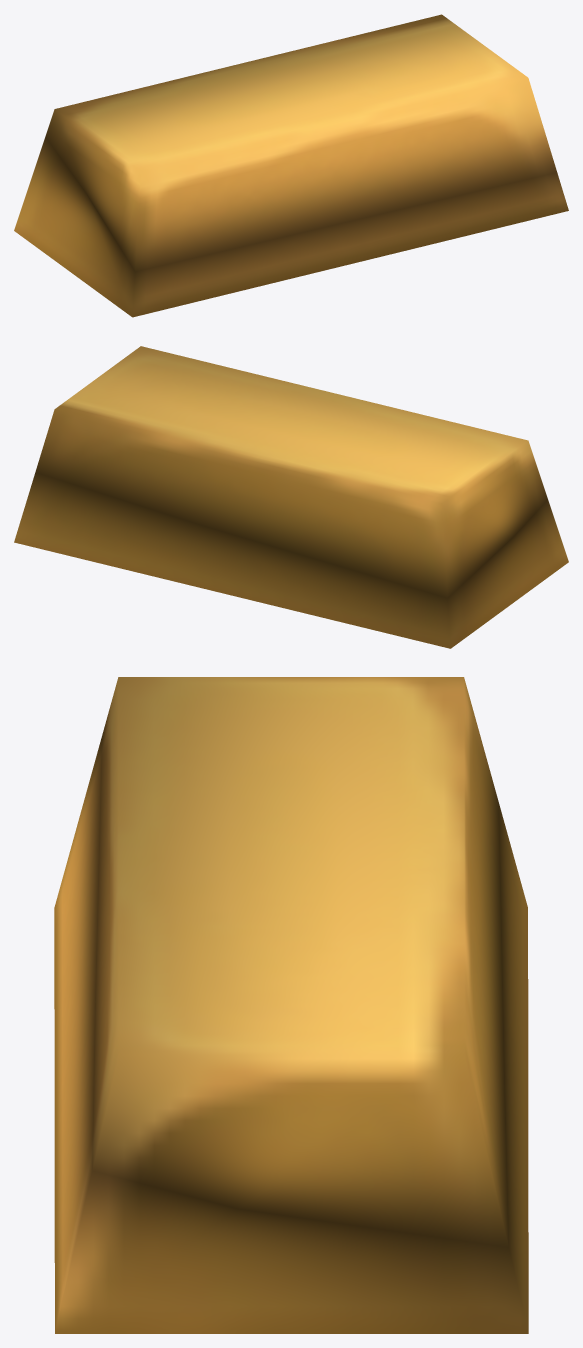
File: GoldBar.glb
The picture shows the model from 3 angles, top to bottom: view 1: azimuth 30°, elevation 25°; view 2: azimuth 150°, elevation 25°; view 3: azimuth 270°, elevation 25°; orthographic projection. The views are drawn at different scales.
Parts seen in each view (by area): view 1: GoldBar; view 2: GoldBar; view 3: GoldBar.
Boxes of the visible parts, <box> form: GoldBar: <box>14,14,568,317</box>; GoldBar: <box>14,346,568,648</box>; GoldBar: <box>54,677,528,1333</box>.
Bounding box in the file's own units: 0.2206 × 0.0615 × 0.1037.
1 material, 1 textured.
